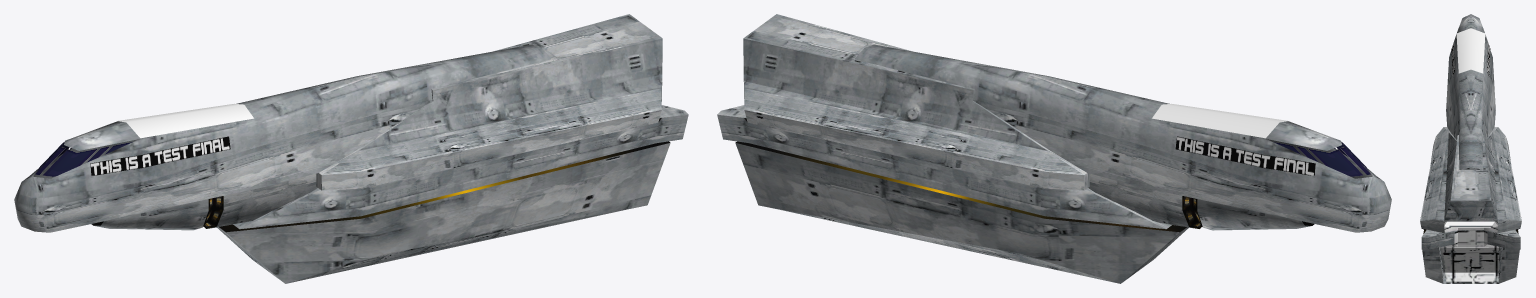
The model's file is sth13.obj.
3 views of the same model, side by side, from view 1: azimuth 30°, elevation 25°; view 2: azimuth 150°, elevation 25°; view 3: azimuth 270°, elevation 25° (orthographic). The views are drawn at different scales.
Visible parts, largest first — view 1: T_TRADER_HULL_0, DECAL030.006, NAMEDECAL0.010; view 2: T_TRADER_HULL_0, DECAL030.006, NAMEDECAL0.010; view 3: T_TRADER_HULL_0, DECAL030.006, NAMEDECAL0.010.
Part boxes in pixels (x1,y1,x2,y2): T_TRADER_HULL_0: (14,14,688,283); DECAL030.006: (118,103,253,138); NAMEDECAL0.010: (70,136,230,175); T_TRADER_HULL_0: (717,14,1391,283); DECAL030.006: (1152,103,1288,138); NAMEDECAL0.010: (1175,136,1315,175); T_TRADER_HULL_0: (1420,14,1521,283); DECAL030.006: (1456,28,1485,73); NAMEDECAL0.010: (1451,42,1490,76).
Bounding box in the file's own units: 65.78 × 18.59 × 15.1.
5 materials, 5 textured.
